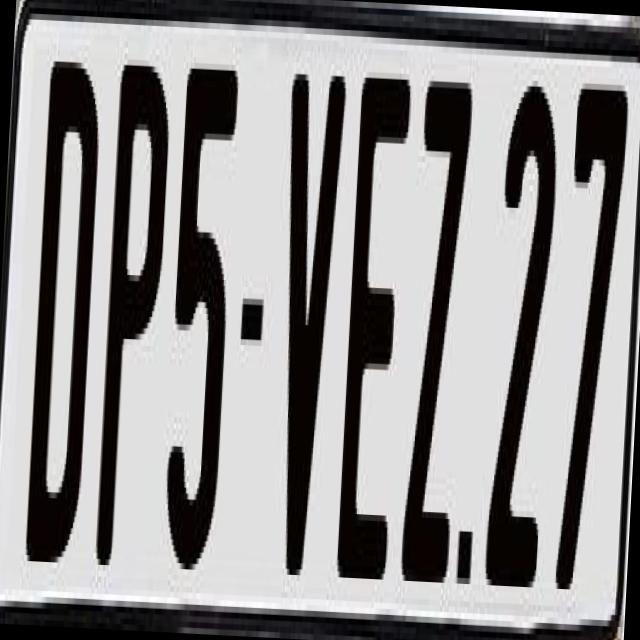2: (479, 85, 559, 611)
5: (158, 68, 242, 576)
7: (550, 83, 634, 603)
D: (23, 61, 108, 564)
E: (334, 60, 411, 585)
P: (89, 64, 169, 596)
V: (264, 62, 346, 576)
Z: (397, 69, 480, 589)
